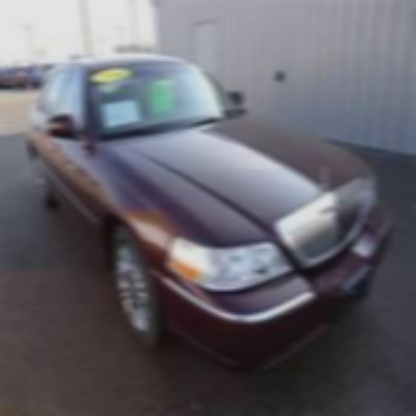Vehicle: (24, 48, 397, 347)
